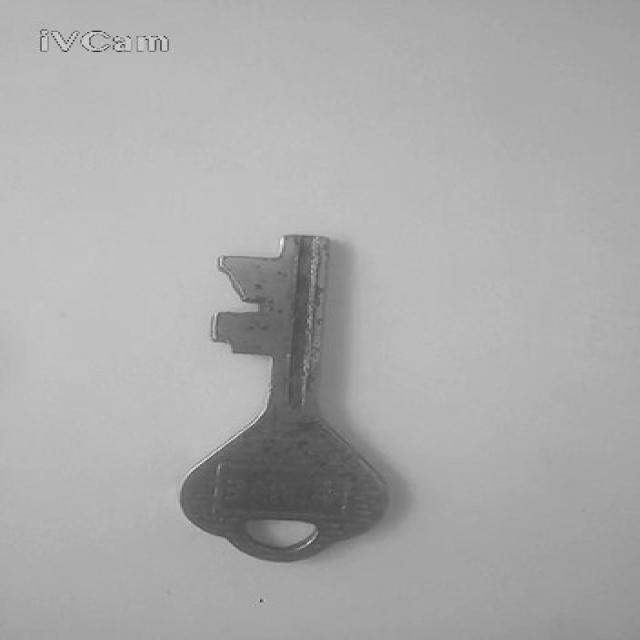key: (180, 236, 387, 562)
